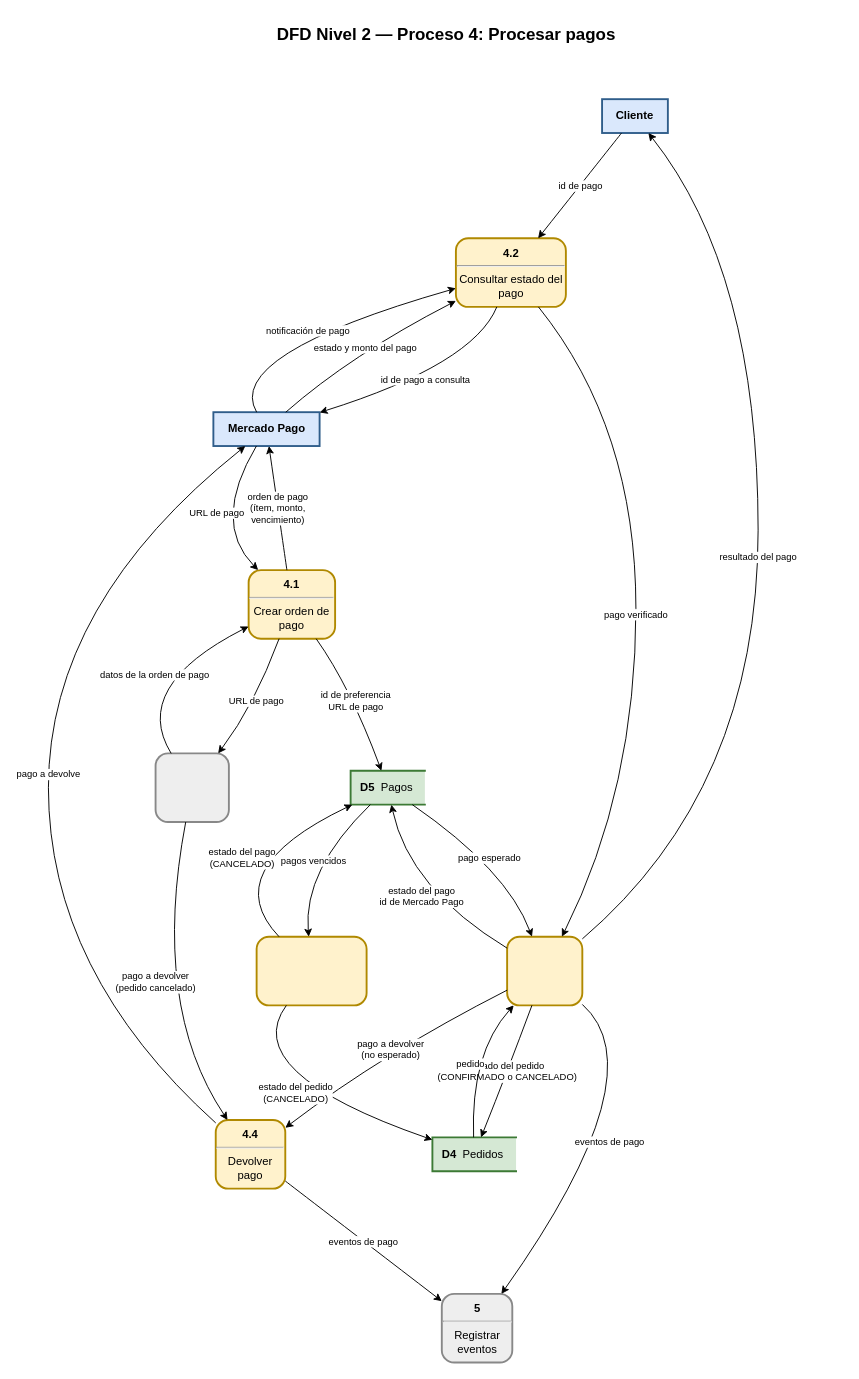
Image size: 859x1379. Some labels were removed from this diagram. The shapes that lost their labels are listed below. From the top down, each one's box as (x1, y1, x2, y2) in pixels, then its label:
(154, 752, 229, 822): 3 Gestionar pedidos
(255, 935, 367, 1006): 4.5 Vencer reservas impagas
(506, 935, 583, 1006): 4.3 Actualizar reserva
